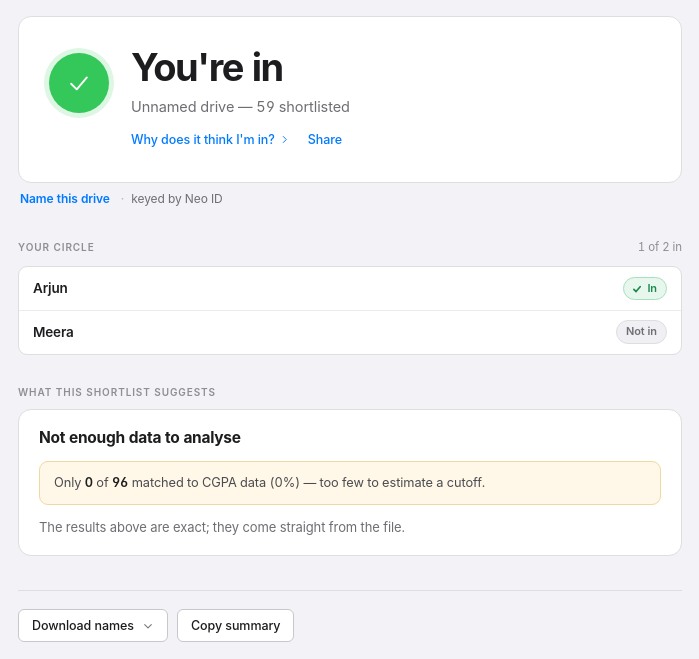
Test: a drive nothing could name › asks to be named instead of showing a placeholder
Click the button "Name this drive" at (65, 199), box [16, 189, 114, 209]
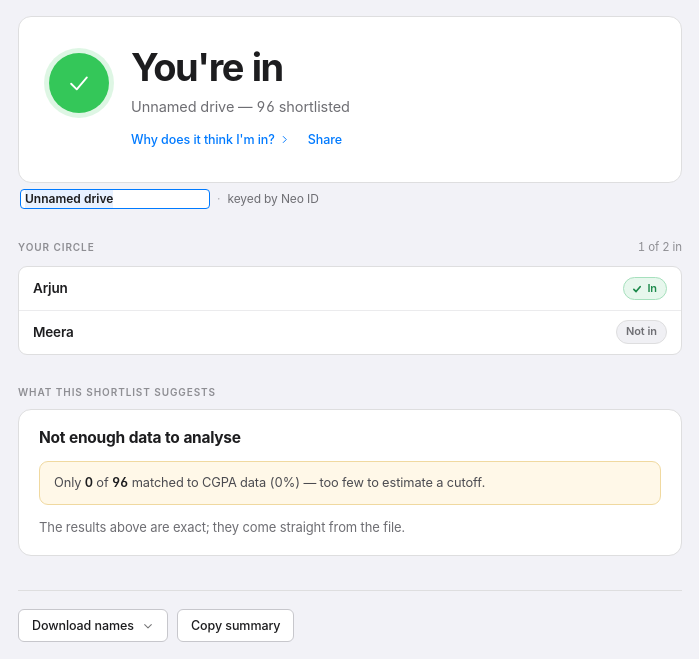
Result: the field named "Drive name" holds "Unnamed drive" at [20, 189, 210, 209]
